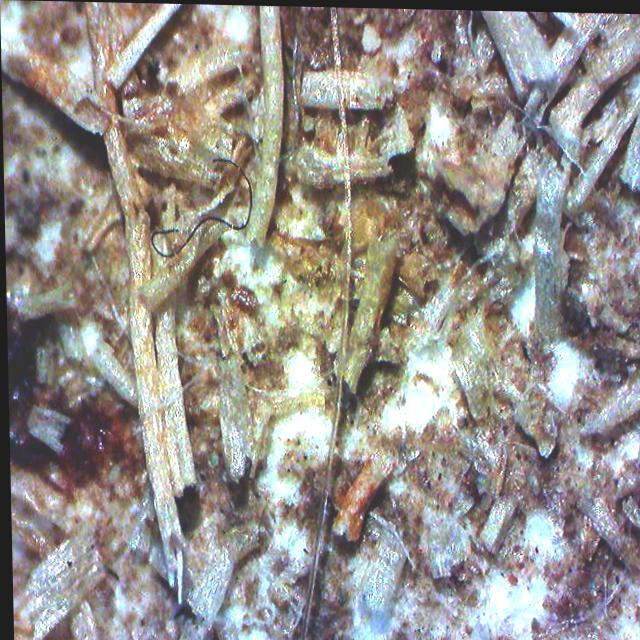microplastic: (141, 149, 273, 286)
